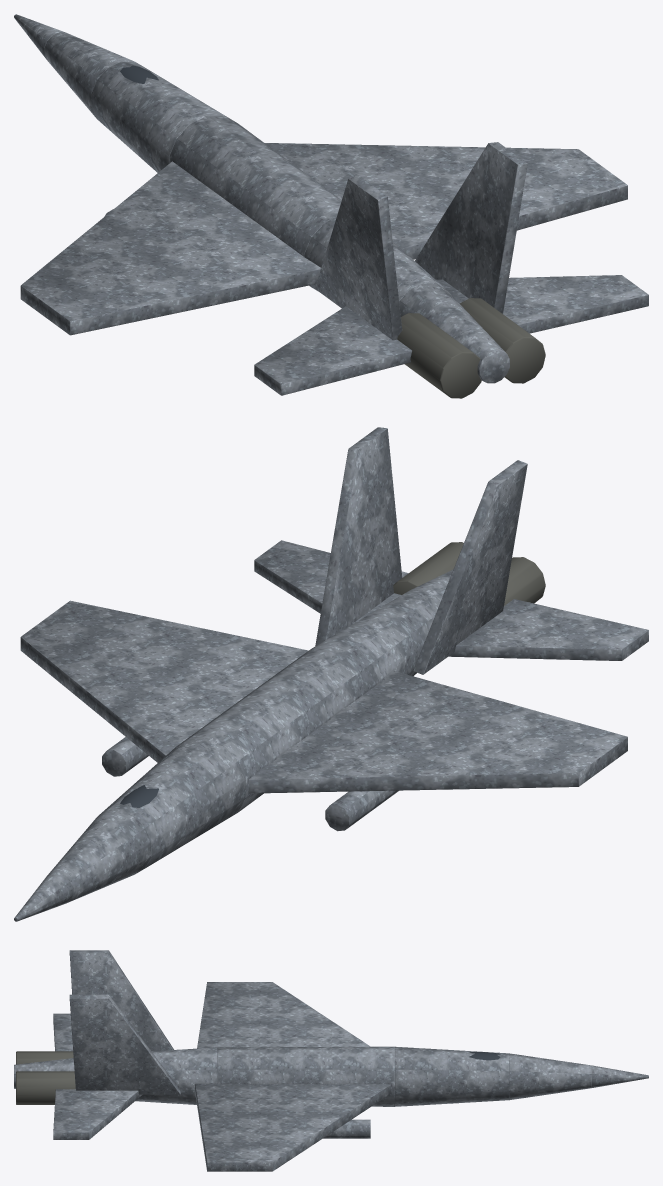
The model's file is air_e4_us_superiority_LOD0.glb.
3 views of the same model, one above another, from view 1: azimuth 30°, elevation 25°; view 2: azimuth 150°, elevation 25°; view 3: azimuth 270°, elevation 25° (orthographic). The views are drawn at different scales.
Visible parts, largest first — view 1: air_e4_us_superiority_LOD0_body, air_e4_us_superiority_LOD0_gun; view 2: air_e4_us_superiority_LOD0_body, air_e4_us_superiority_LOD0_gun; view 3: air_e4_us_superiority_LOD0_body, air_e4_us_superiority_LOD0_gun.
Boxes of the visible parts, <box> form: air_e4_us_superiority_LOD0_body: <box>14,14,648,395</box>; air_e4_us_superiority_LOD0_gun: <box>397,298,545,398</box>; air_e4_us_superiority_LOD0_body: <box>14,427,648,921</box>; air_e4_us_superiority_LOD0_gun: <box>393,542,545,605</box>; air_e4_us_superiority_LOD0_body: <box>14,950,648,1171</box>; air_e4_us_superiority_LOD0_gun: <box>16,1051,75,1104</box>.
Bounding box in the file's own units: 13.05 × 4.4 × 19.4.
Materials: 3 (1 with a texture image).
